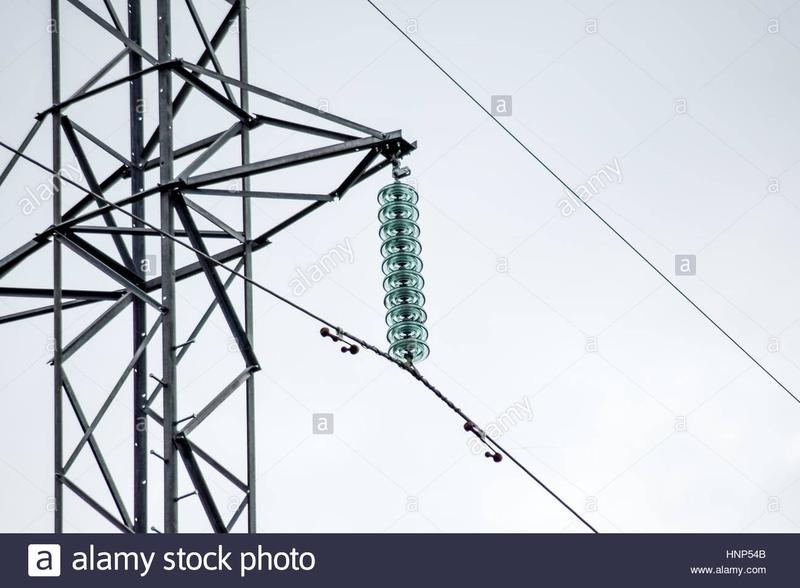isolator: (375, 182, 430, 365)
